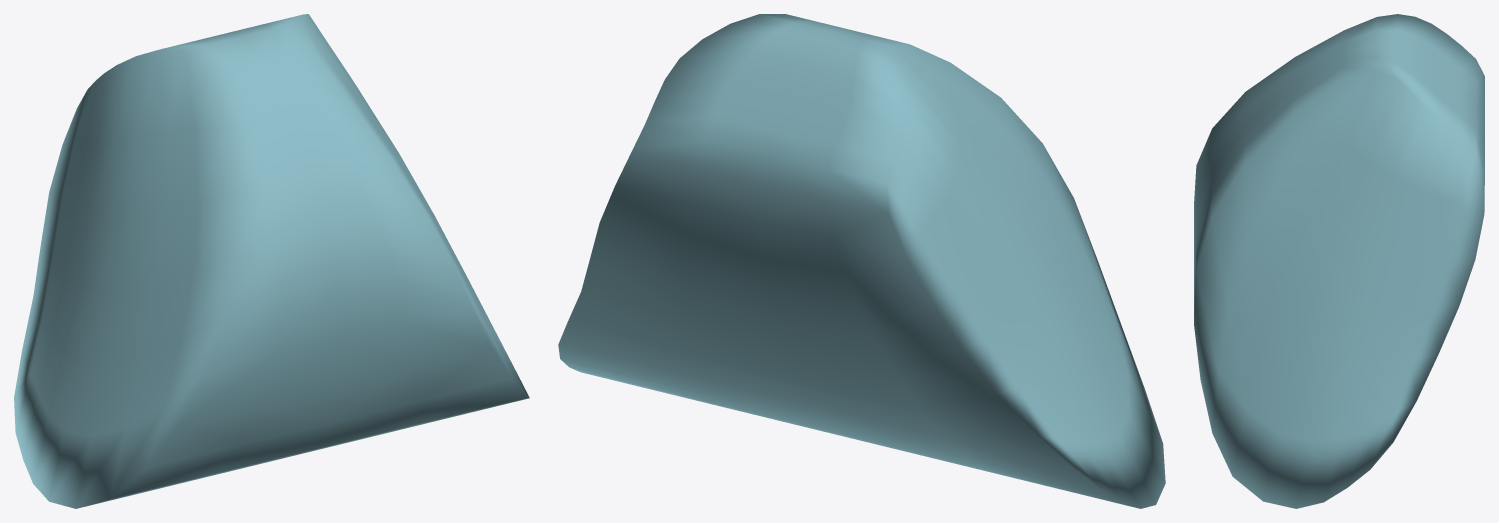
3 views of the same model, side by side, from view 1: azimuth 30°, elevation 25°; view 2: azimuth 150°, elevation 25°; view 3: azimuth 270°, elevation 25° (orthographic). The views are drawn at different scales.
Parts seen in each view (by area): view 1: 耻骨联合; view 2: 耻骨联合; view 3: 耻骨联合.
Boxes of the visible parts, x1,y1,x2,y2 form: 耻骨联合: (14, 14, 529, 508); 耻骨联合: (558, 14, 1165, 508); 耻骨联合: (1194, 14, 1484, 508).
Size of the model in its own units: 0.0506 by 0.0382 by 0.0283.
